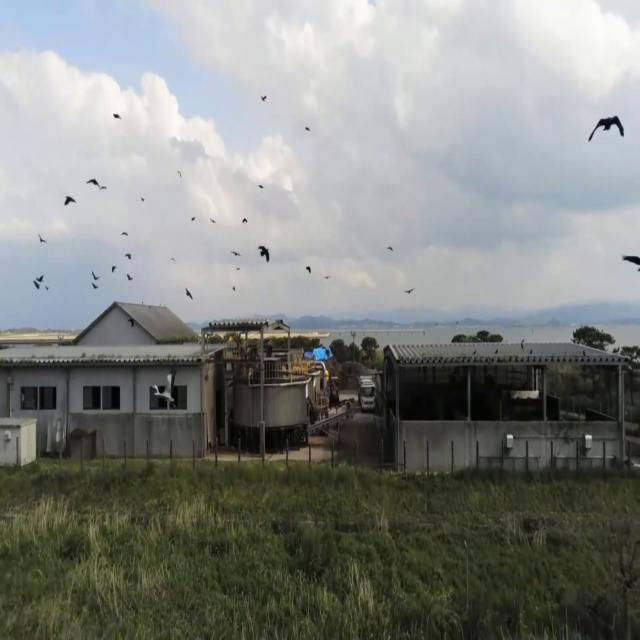bird: (587, 94, 626, 184), (621, 235, 640, 294), (85, 166, 106, 202), (257, 236, 270, 272), (63, 185, 77, 218), (33, 266, 45, 299), (91, 264, 100, 295), (404, 280, 415, 302), (112, 104, 121, 128), (185, 281, 193, 307), (38, 225, 46, 250), (125, 267, 133, 289), (260, 86, 267, 109), (125, 248, 132, 268)
